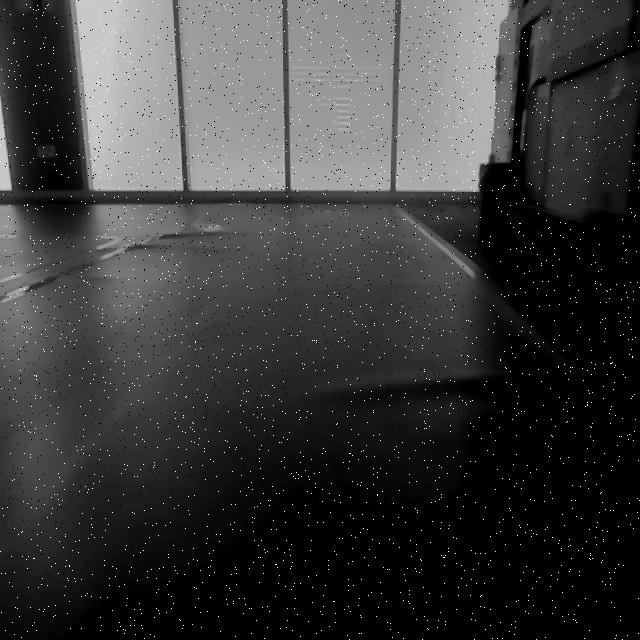left_lane: (2, 222, 285, 564)
right_lane: (397, 211, 640, 453)
